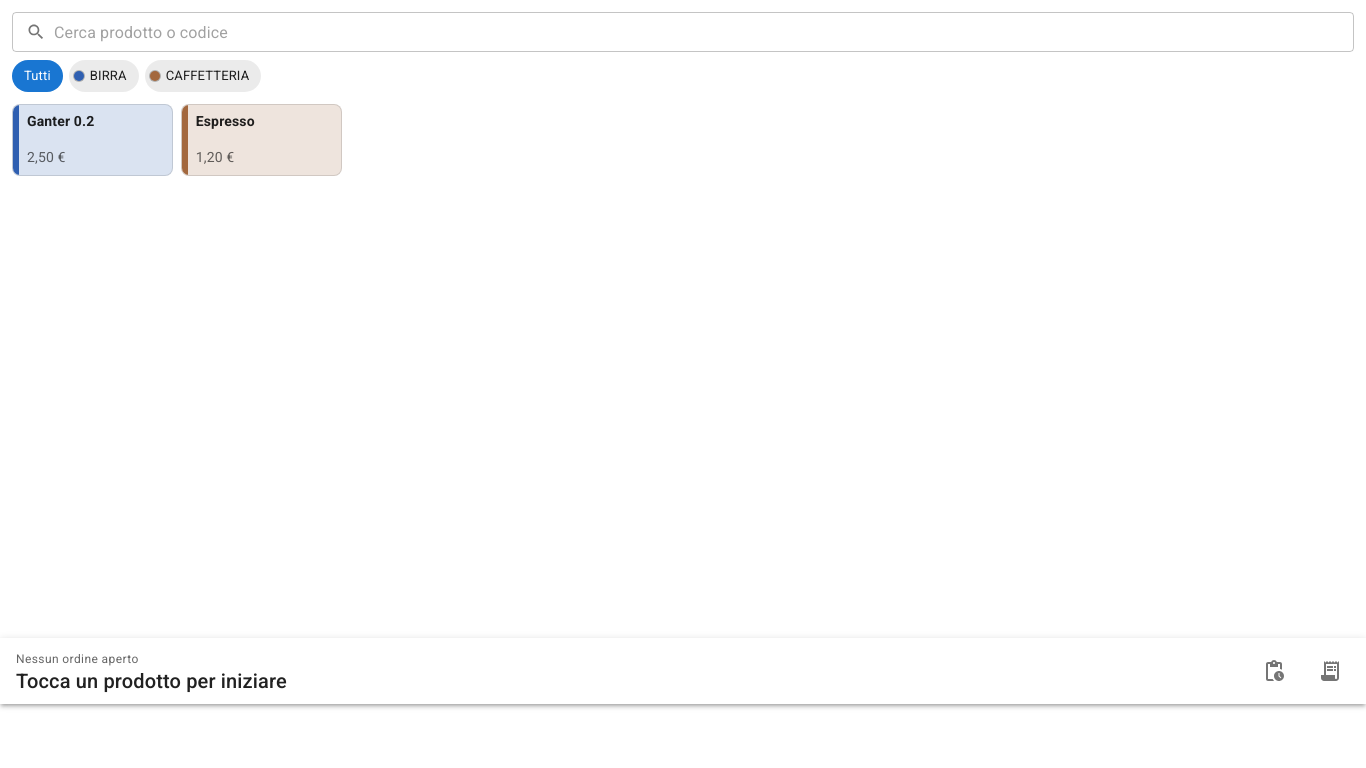
Scenario: PuntoVendita › la barra mostra il totale corrente e l'identificativo dell'ordine
Click the text "Ganter 0.2" at [61, 122], box top-left (27, 113), bottom-right (94, 130)
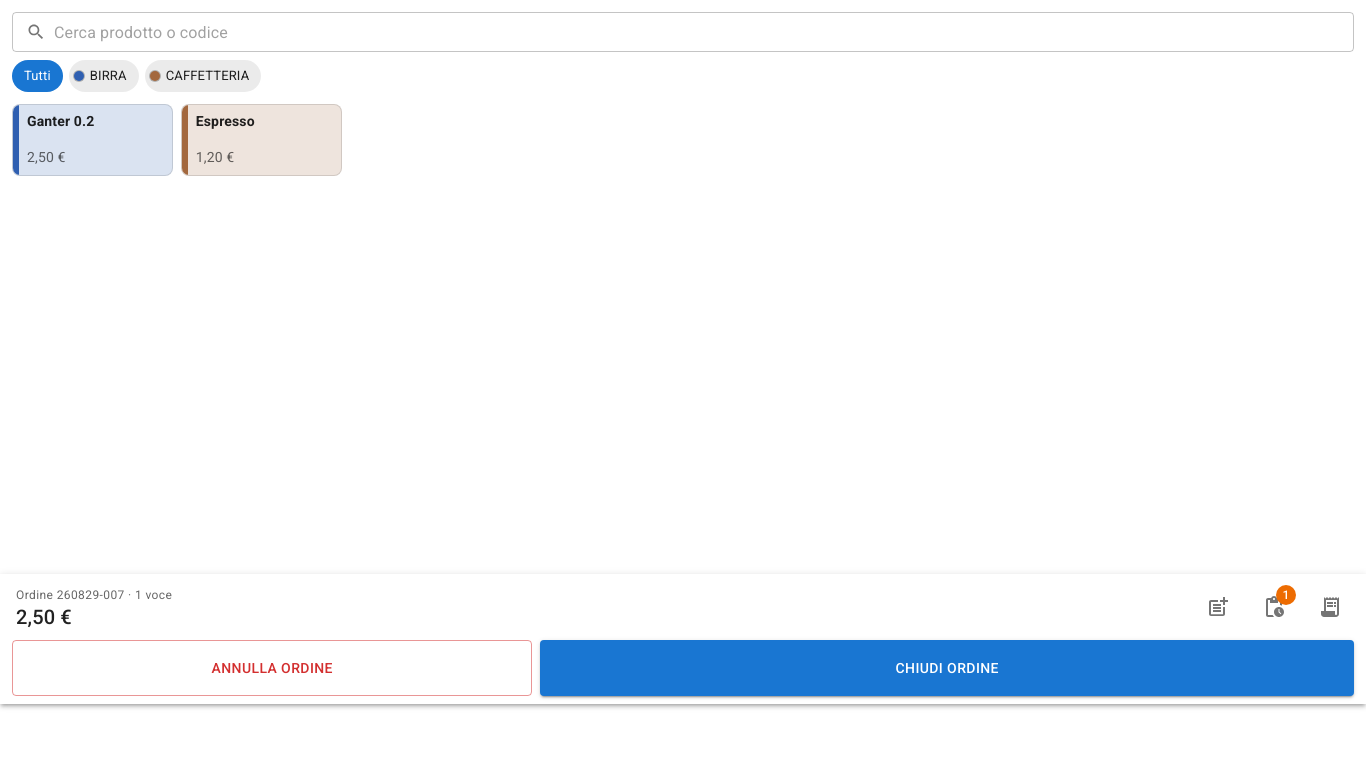
Click the text "Espresso" at [225, 122], box top-left (196, 113), bottom-right (255, 130)
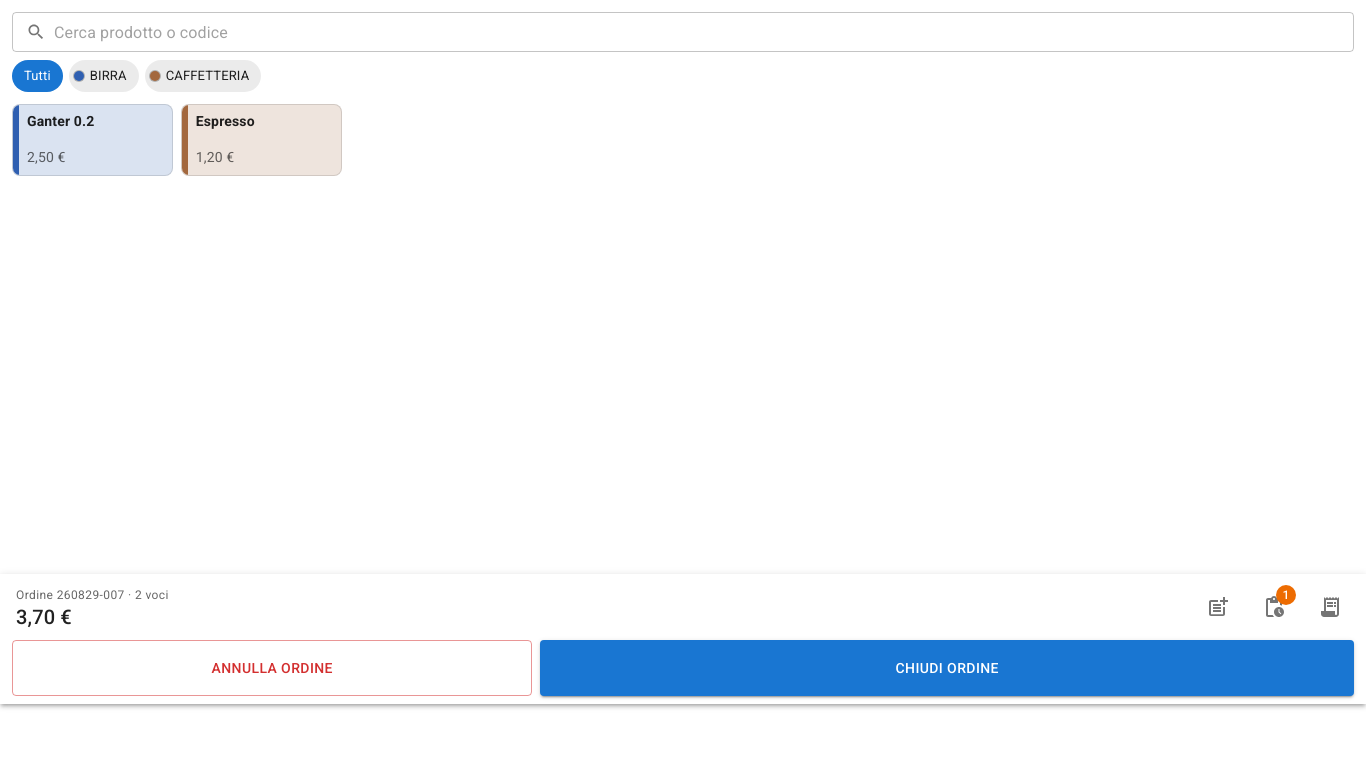
Expected: the heading "3,70 €" is shown, top-left (16, 605), bottom-right (72, 629)
Expected: the text "Ordine 260829-007 · 2 voci" is shown, top-left (16, 586), bottom-right (169, 606)
